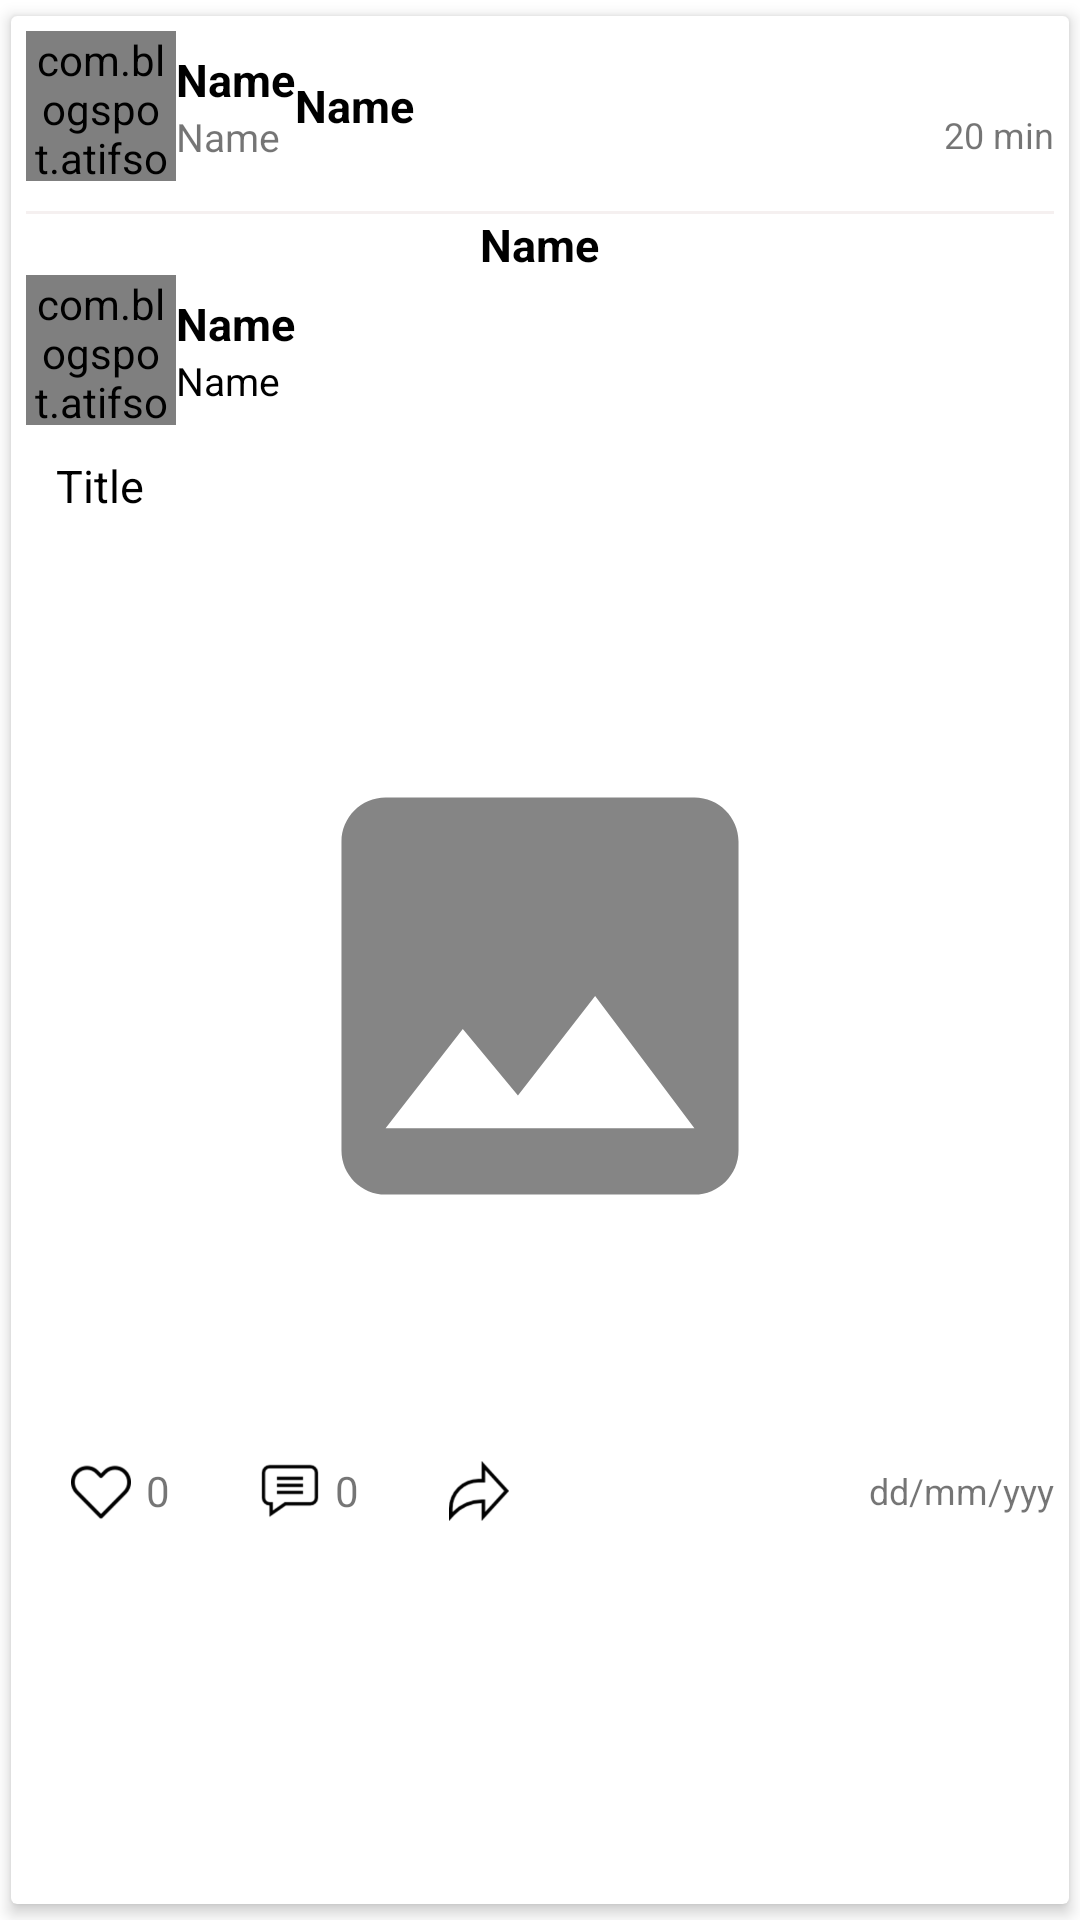

Where to tap for icons on this 1080px×1920px app screen, as (x=x, y=y):
comment: (x=290, y=1490)
heart: (x=101, y=1492)
share: (x=479, y=1491)
